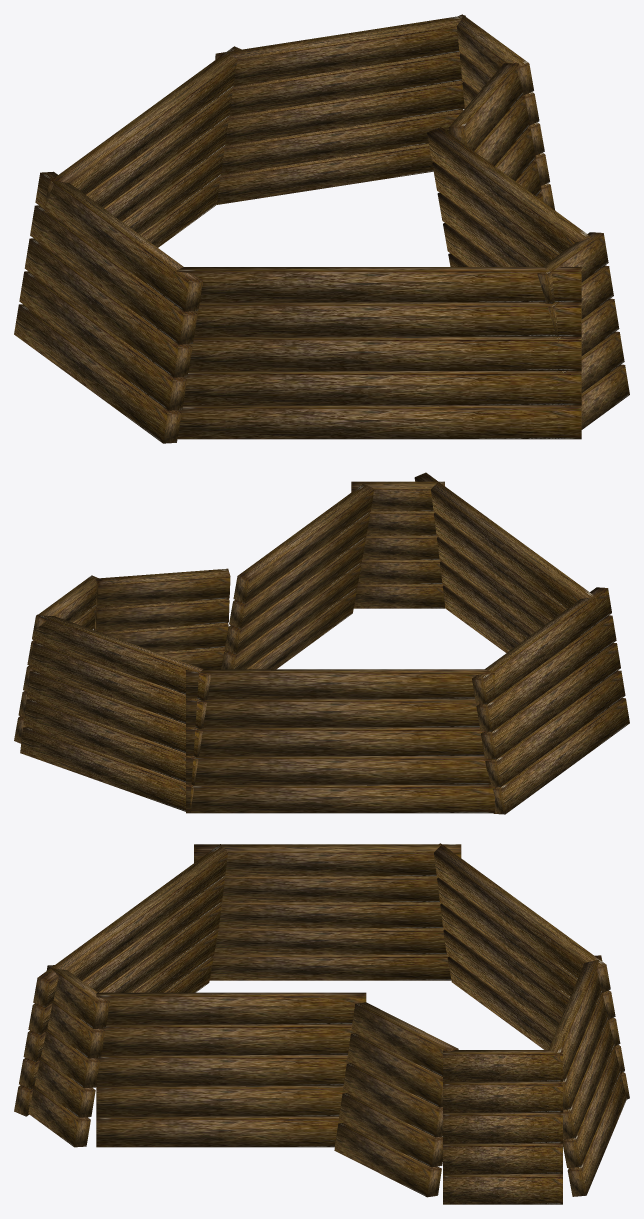
File: WoodenBarrierPartTest02.obj
3 views of the same model, one above another, from view 1: azimuth 30°, elevation 25°; view 2: azimuth 150°, elevation 25°; view 3: azimuth 270°, elevation 25° (orthographic). The views are drawn at different scales.
Parts seen in each view (by area): view 1: Box003; view 2: Box003; view 3: Box003.
Boxes of the visible parts, x1,y1,x2,y2 form: Box003: (14,14,629,443); Box003: (14,472,629,814); Box003: (14,843,629,1204).
Size of the model in its own units: 225 by 63.84 by 252.
